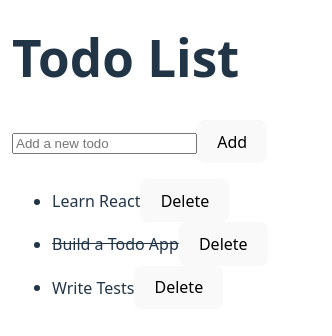
Test: TodoList Component › can add a new todo
This screenshot has width=332, height=336.
Type "Test Todo" into the field with placeholder "Add a new todo" at (104, 143), box [12,133,197,154]
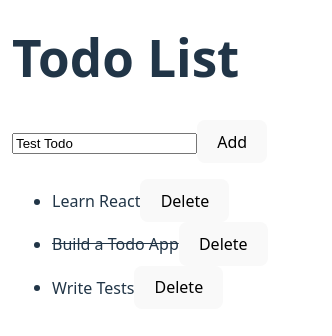
Click the button "Add" at (232, 142), box [197,120,267,163]
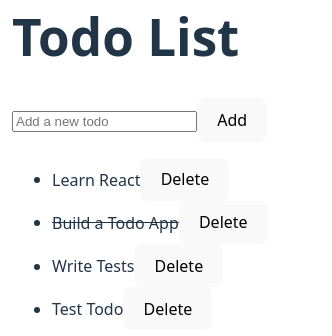
expect the text "Test Todo" is shown: met, box [52,298,123,320]
